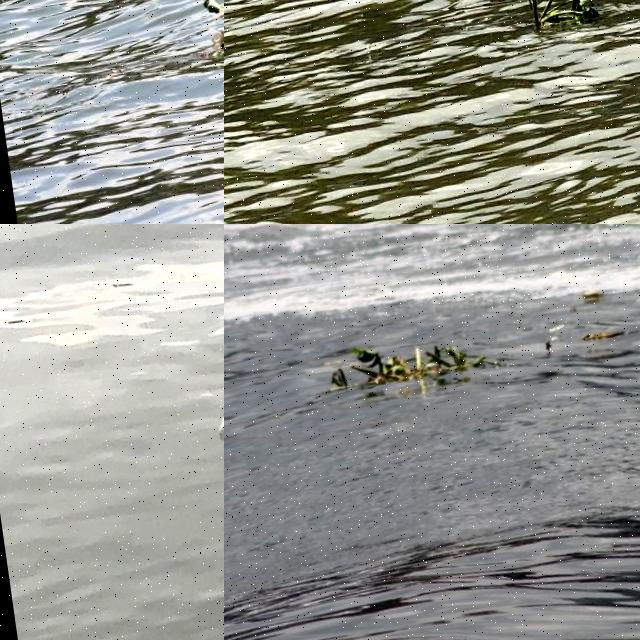water-hyacinth: (340, 324, 498, 402), (514, 1, 612, 42)
